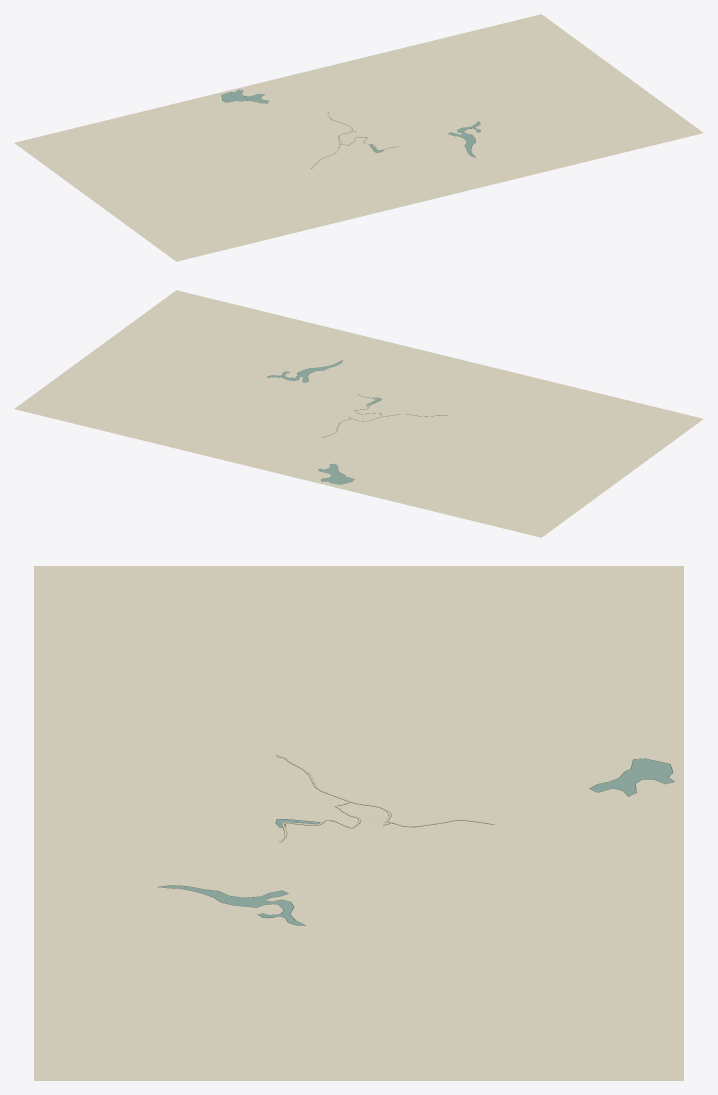
Rendered from qingyuan-foundation.glb.
The picture shows the model from 3 angles, top to bottom: view 1: azimuth 30°, elevation 25°; view 2: azimuth 150°, elevation 25°; view 3: azimuth 270°, elevation 25°; orthographic projection. The views are drawn at different scales.
Parts seen in each view (by area): view 1: map_support; view 2: map_support; view 3: map_support, north-water, east-water.
Boxes of the visible parts, left/top/right/bottom form: map_support: left=14, top=14, right=703, bottom=261; map_support: left=14, top=290, right=703, bottom=537; map_support: left=34, top=566, right=683, bottom=1080; north-water: left=590, top=758, right=674, bottom=796; east-water: left=160, top=885, right=305, bottom=925.
Bounding box in the file's own units: 38.4 × 0.06 × 20.48.
